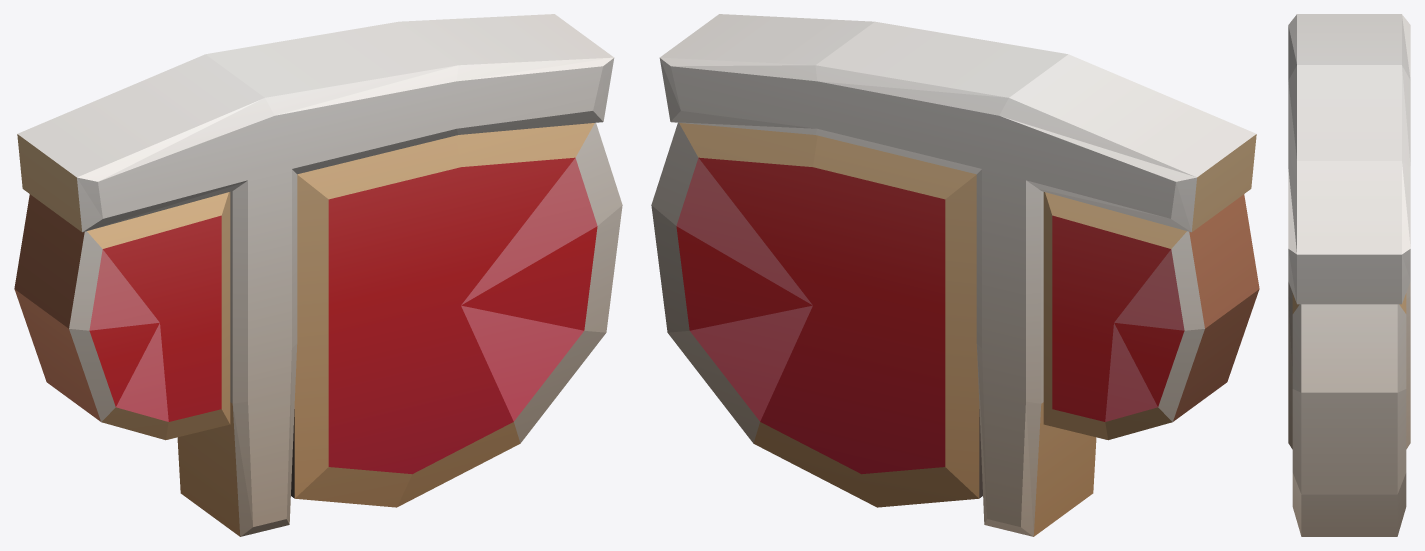
The model's file is food_meat_tbone.glb.
3 views of the same model, side by side, from view 1: azimuth 30°, elevation 25°; view 2: azimuth 150°, elevation 25°; view 3: azimuth 270°, elevation 25° (orthographic). The views are drawn at different scales.
Parts seen in each view (by area): view 1: model; view 2: model; view 3: model.
Part boxes in pixels (x1=…): model: x1=14, y1=14, x2=622, y2=536; model: x1=651, y1=14, x2=1259, y2=536; model: x1=1288, y1=14, x2=1410, y2=536.
Size of the model in its own units: 0.515 by 0.395 by 0.112.
1 material, 1 textured.
